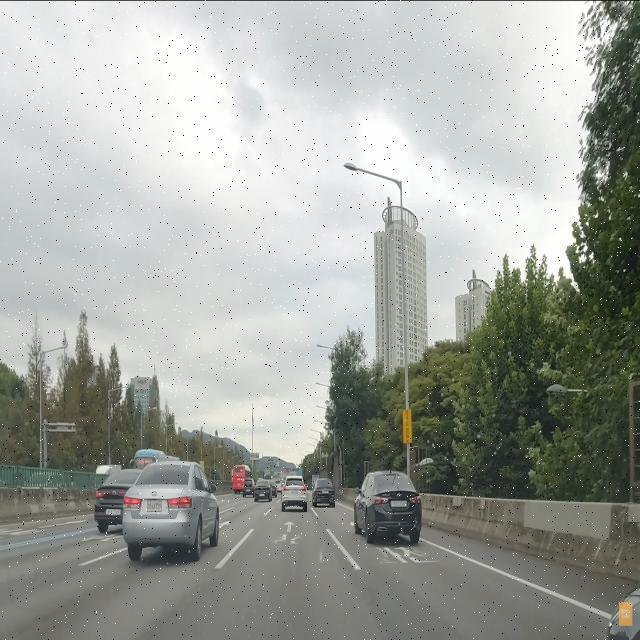forward: (239, 518, 337, 535)
